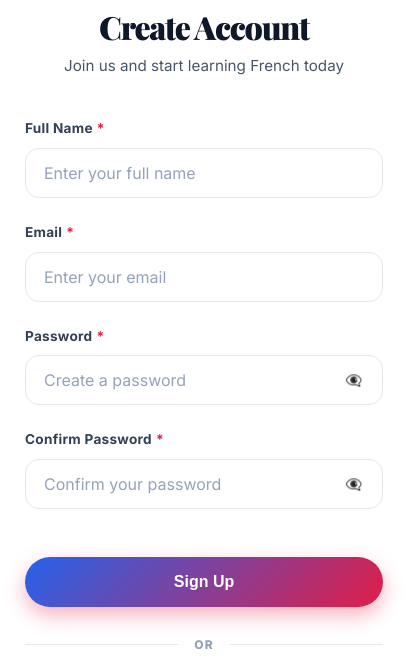
Test: SignupForm › shows validation errors for empty fields
What coordinates should you click on to do the following:
click the button "Sign Up"
I would click on:
 (204, 582)
Its box is [25,557,383,607].
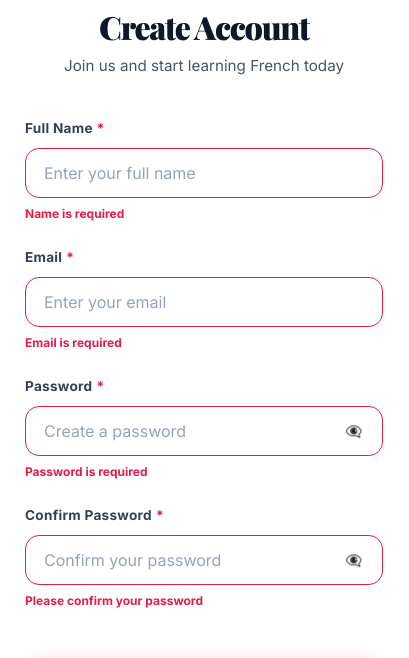
Expected: the text "Name is required" is shown, [25,206,124,221]
Expected: the text "Email is required" is shown, [25,335,122,350]
Expected: the text "Password is required" is shown, [25,464,148,479]
